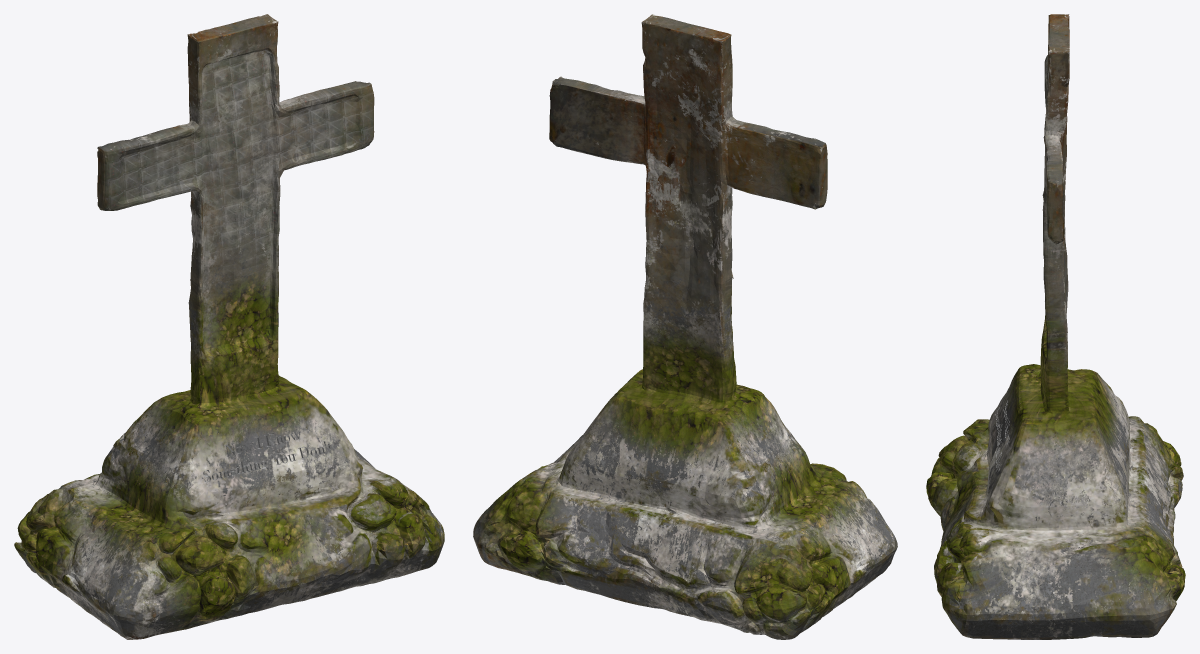
Rendered from graveFinal.fbx.
The picture shows the model from 3 angles, left to right: view 1: azimuth 30°, elevation 25°; view 2: azimuth 150°, elevation 25°; view 3: azimuth 270°, elevation 25°; orthographic projection.
Visible parts, largest first — view 1: polySurface1; view 2: polySurface1; view 3: polySurface1.
Boxes of the visible parts, x1,y1,x2,y2 form: polySurface1: [14, 14, 444, 639]; polySurface1: [473, 14, 897, 639]; polySurface1: [926, 14, 1185, 639].
Bounding box in the file's own units: 87.83 × 133 × 58.47.
